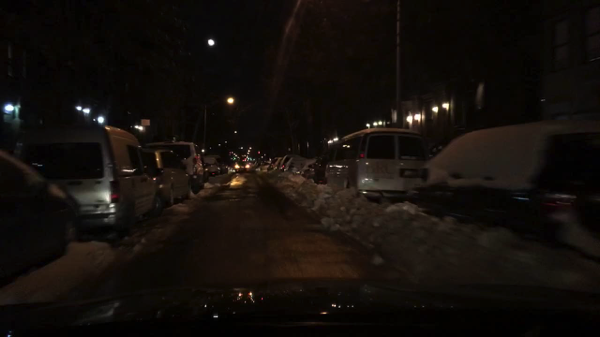car: (404, 121, 599, 264), (13, 124, 163, 242), (0, 150, 79, 289), (326, 128, 427, 199), (147, 142, 206, 194), (141, 148, 192, 207), (310, 153, 324, 185), (285, 159, 309, 176), (279, 154, 303, 171), (205, 155, 227, 173), (203, 158, 221, 177), (303, 160, 315, 181), (235, 162, 251, 172), (267, 159, 277, 172), (272, 160, 281, 173), (204, 160, 209, 183), (258, 162, 271, 170), (228, 166, 234, 172)
